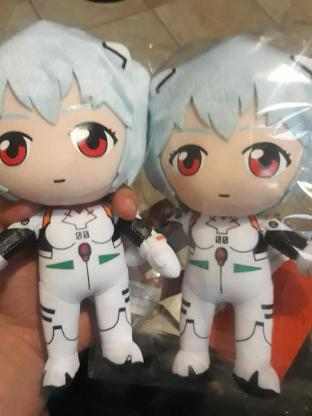rei-plush: (0, 7, 152, 395), (145, 42, 311, 396)
